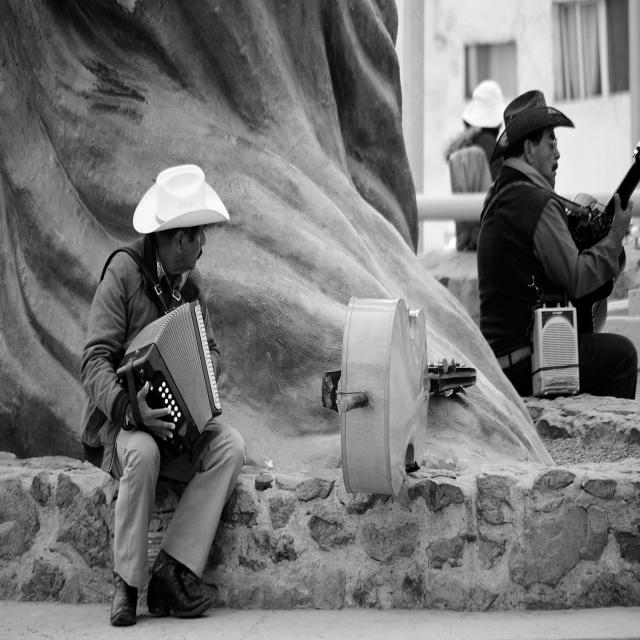adult: (79, 166, 246, 626), (472, 65, 640, 408)
